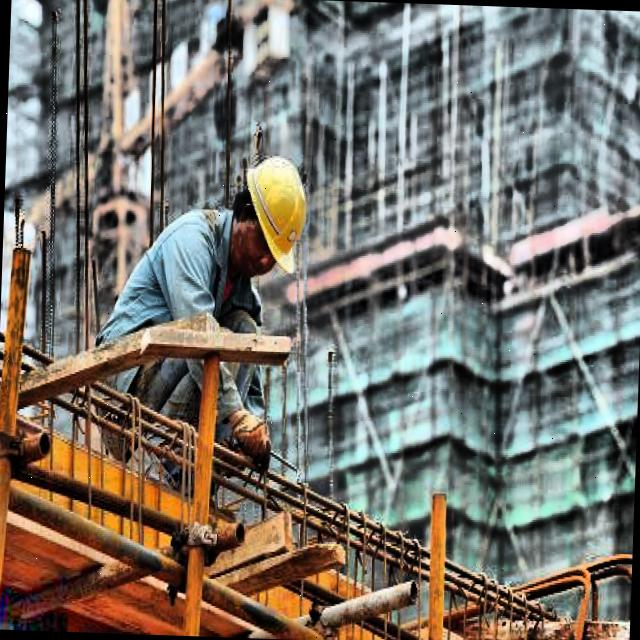helmet: (219, 154, 317, 290)
